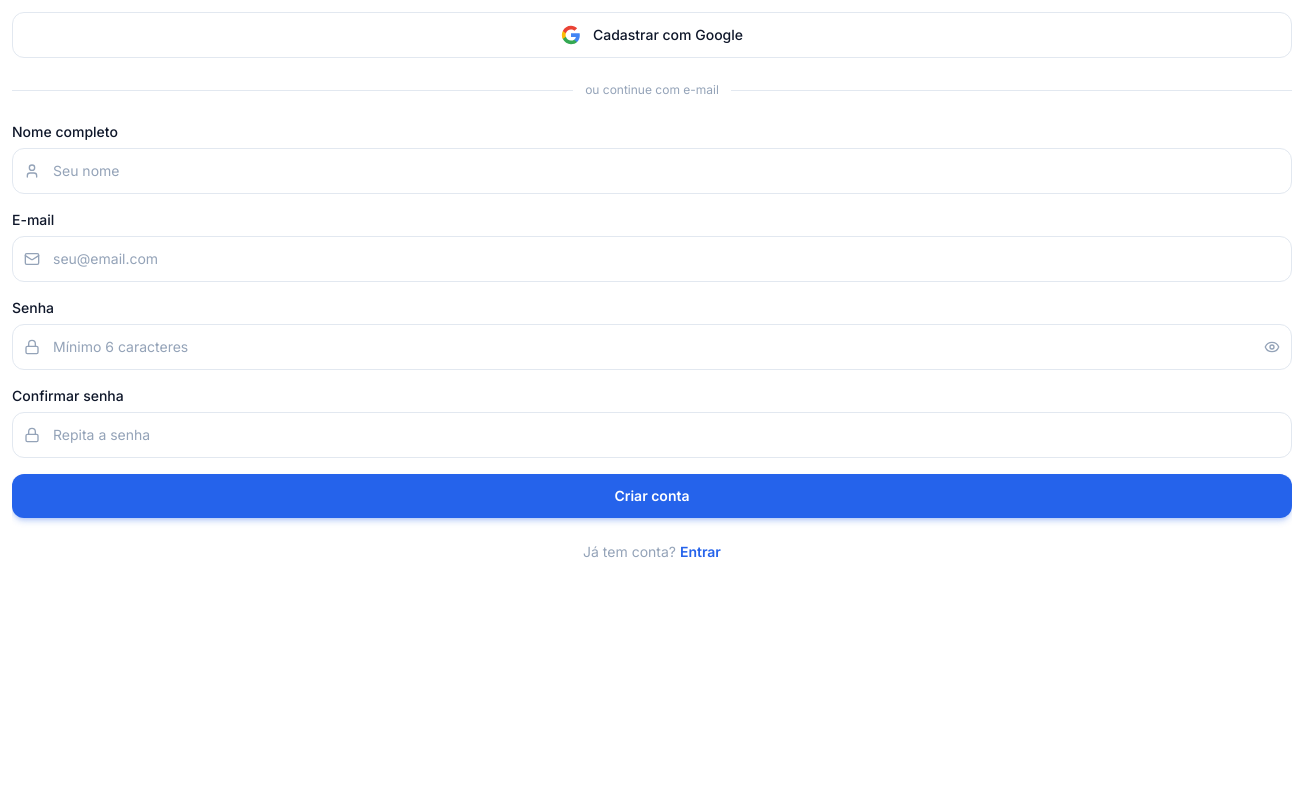
Test: RegisterForm › exibe erro retornado pela API
In the field labelled "Nome completo": [652, 171] box [12, 148, 1292, 194], type "João Silva"
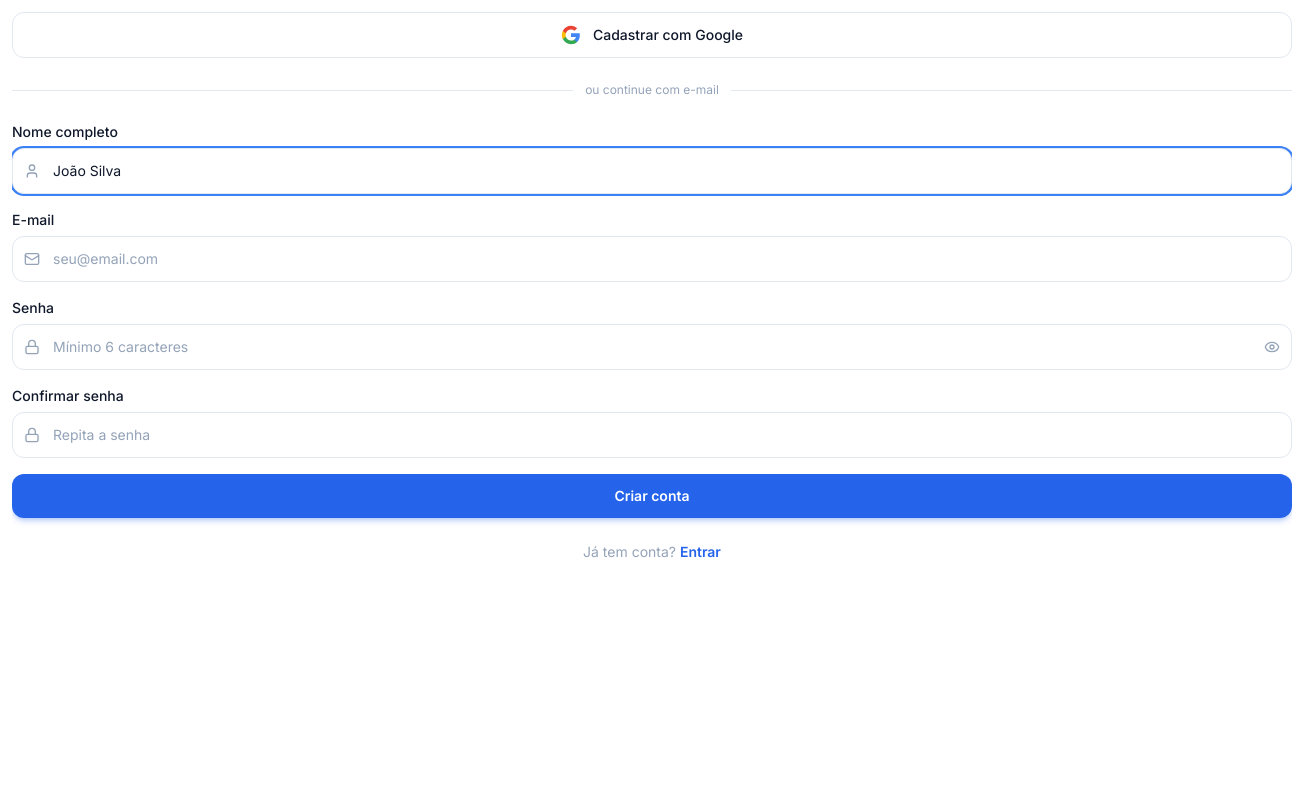
In the field labelled "E-mail": [652, 259] box [12, 236, 1292, 282], type "joao@example.com"
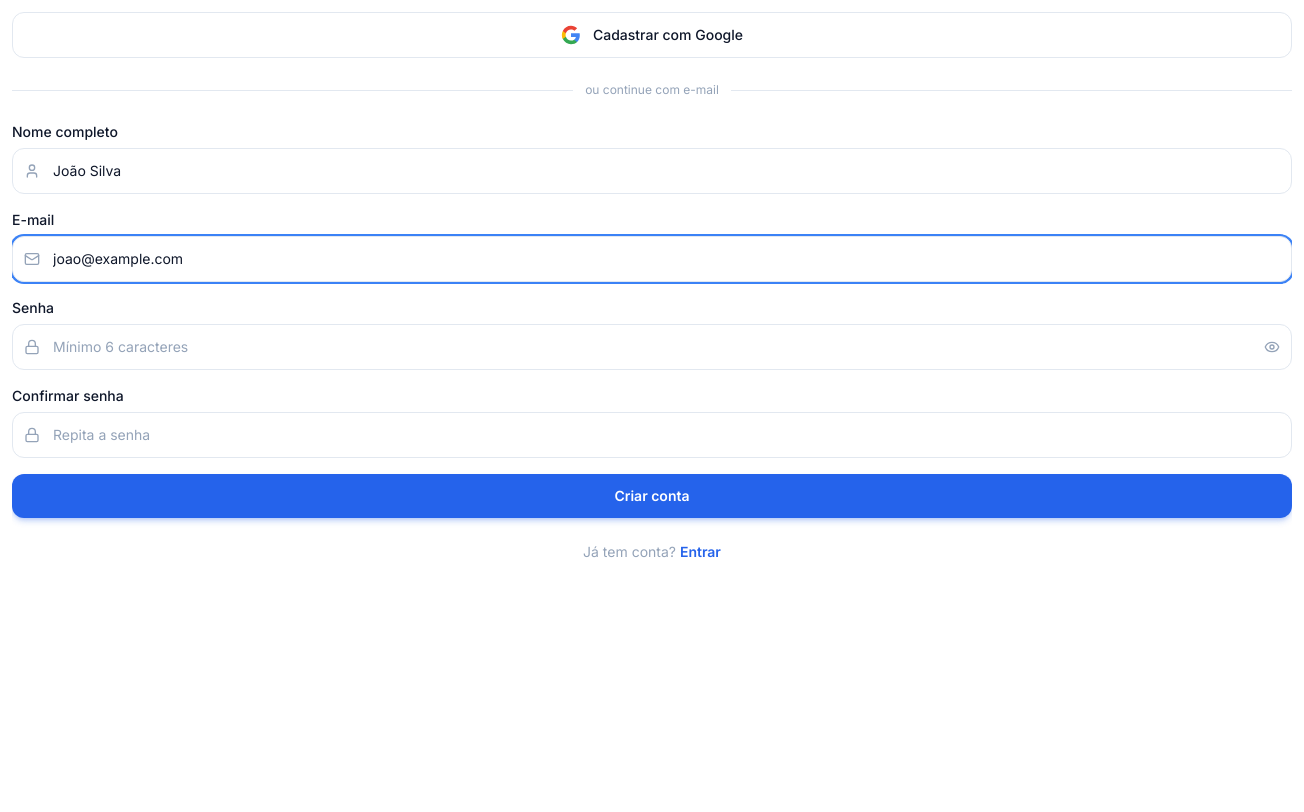
In the password field labelled "Senha": [652, 347] box [12, 324, 1292, 370], type "Senh@123"
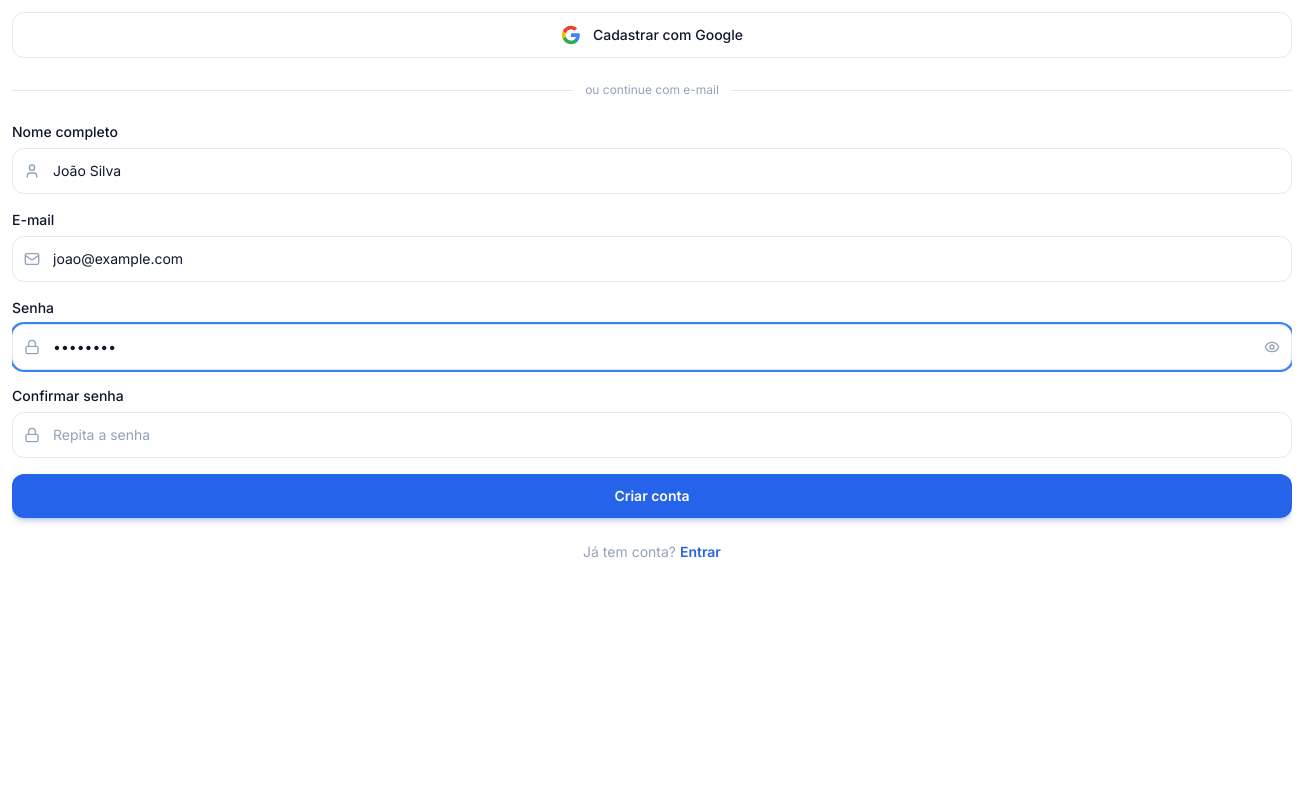
In the password field labelled "Confirmar senha": [652, 435] box [12, 412, 1292, 458], type "Senh@123"
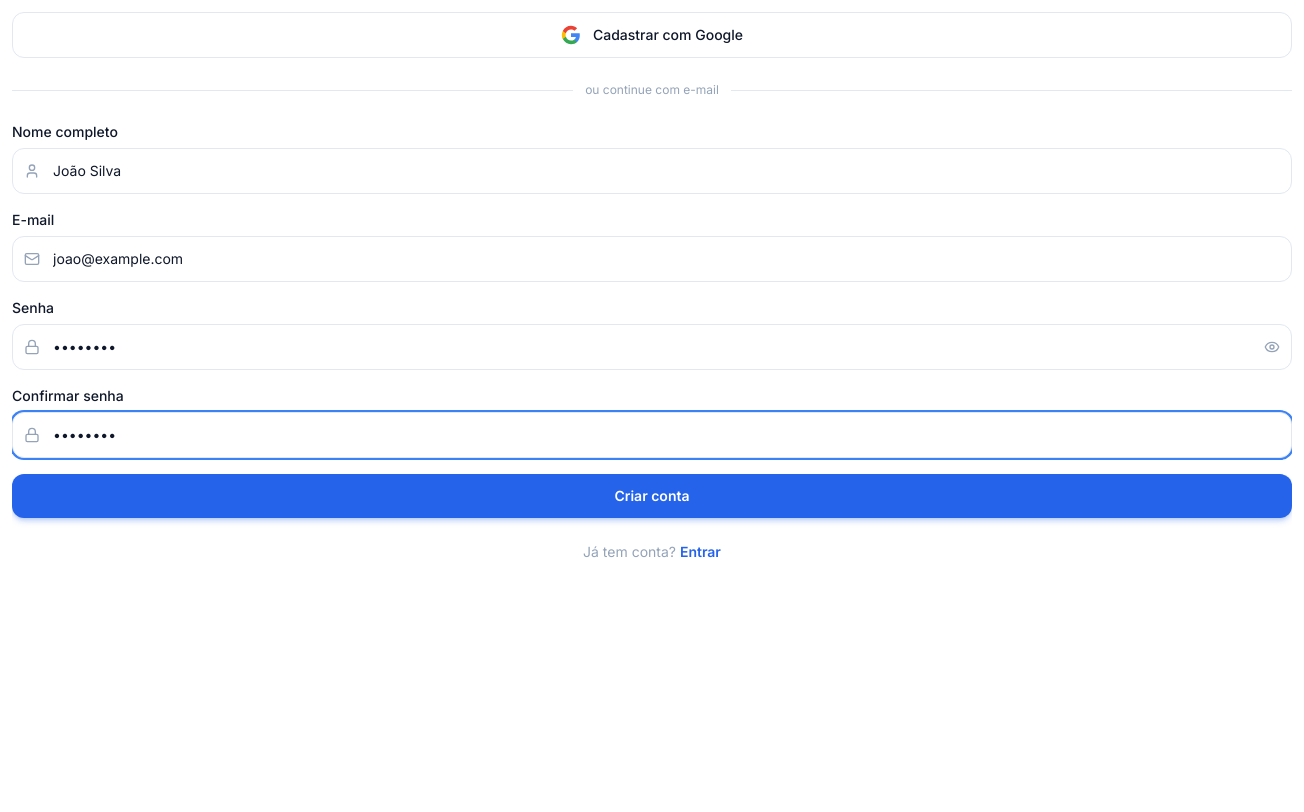
Click the button "Criar conta": [652, 496] box [12, 474, 1292, 518]
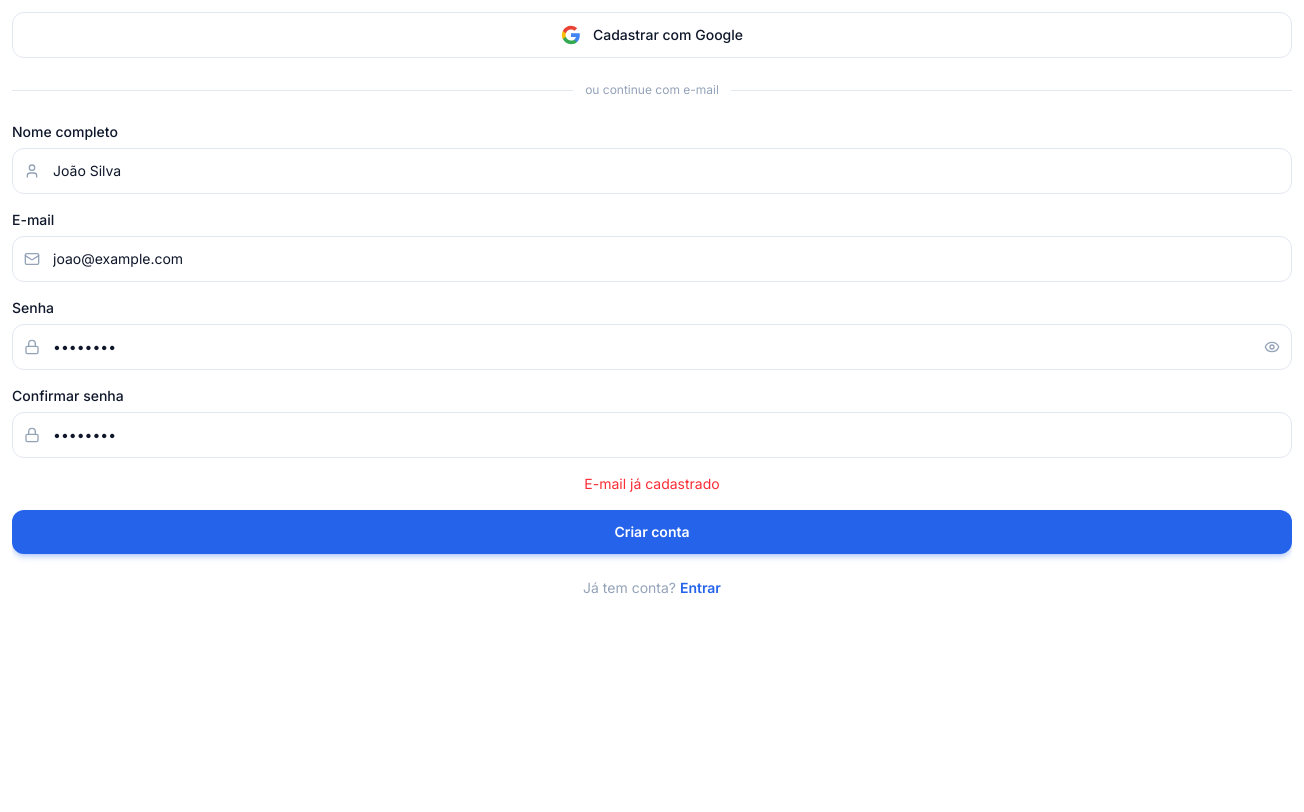
Check: the message reads "E-mail já cadastrado", box [584, 475, 720, 492]
